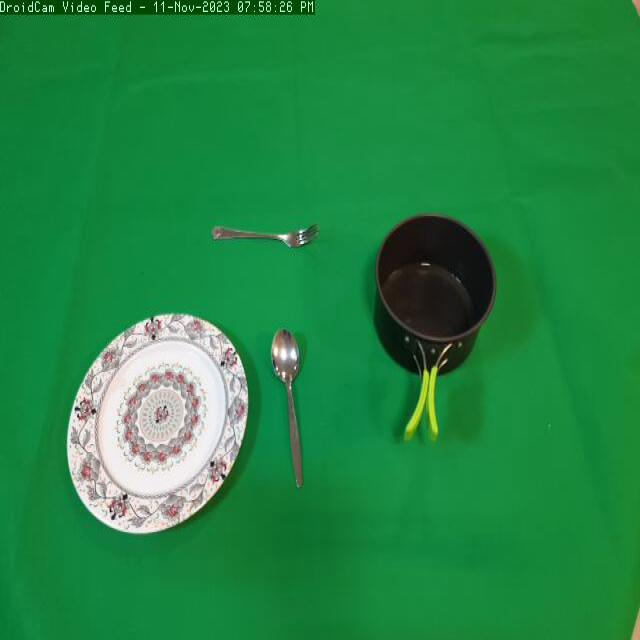fork: (204, 204, 326, 262)
plate: (63, 309, 256, 551)
pot: (369, 205, 505, 456)
spoon: (266, 319, 321, 497)
